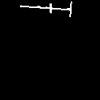double_crochet: (20, 2, 71, 16)
